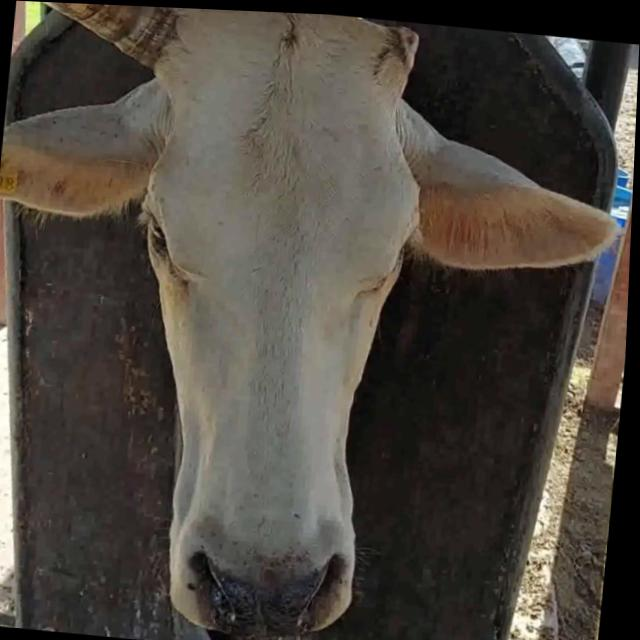cowFace: (116, 5, 448, 640)
